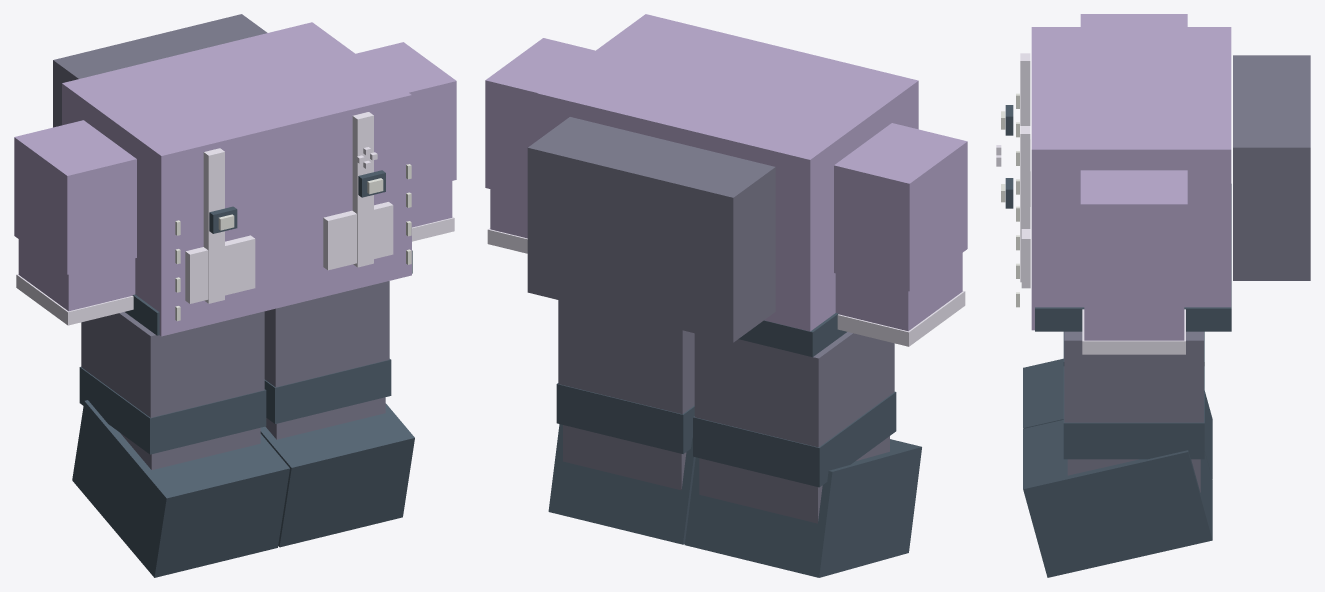
The model's file is explorer-lavender.glb.
The picture shows the model from 3 angles, left to right: view 1: azimuth 30°, elevation 25°; view 2: azimuth 150°, elevation 25°; view 3: azimuth 270°, elevation 25°; orthographic projection. The views are drawn at different scales.
Parts seen in each view (by area): view 1: jacket, shoe-Right, upper-sleeve-Right, trouser-Right, shoe-Left, trouser-Left, upper-sleeve-Left, boot-cuff-Right, backpack, boot-cuff-Left, lower-sleeve-Right, pocket--1 (+9 smaller); view 2: jacket, backpack, upper-sleeve-Right, shoe-Right, trouser-Right, trouser-Left, boot-cuff-Right, upper-sleeve-Left, shoe-Left, boot-cuff-Left, lower-sleeve-Right, lower-trouser-Right (+5 smaller); view 3: jacket, shoe-Left, backpack, upper-sleeve-Left, trouser-Left, boot-cuff-Left, lower-sleeve-Left, shoe-Right, trail-belt, cuff-Left, upper-sleeve-Right, backpack-strap.001 (+3 smaller).
Part boxes in pixels (<box>): jacket: <box>62,22,411,336</box>; shoe-Right: <box>72,400,289,577</box>; upper-sleeve-Right: <box>14,120,136,274</box>; trouser-Right: <box>81,311,264,417</box>; shoe-Left: <box>260,403,414,547</box>; trouser-Left: <box>264,281,389,387</box>; upper-sleeve-Left: <box>356,42,456,190</box>; boot-cuff-Right: <box>79,367,266,454</box>; backpack: <box>53,14,267,127</box>; boot-cuff-Left: <box>264,359,391,423</box>; lower-sleeve-Right: <box>18,239,135,311</box>; pocket--1: <box>185,235,255,303</box>; jacket: <box>537,14,918,331</box>; backpack: <box>527,117,775,342</box>; upper-sleeve-Right: <box>834,123,967,291</box>; shoe-Right: <box>684,439,921,577</box>; trouser-Right: <box>694,332,894,447</box>; trouser-Left: <box>558,300,694,414</box>; boot-cuff-Right: <box>693,391,896,487</box>; upper-sleeve-Left: <box>485,38,594,197</box>; shoe-Left: <box>548,424,695,544</box>; boot-cuff-Left: <box>556,383,694,453</box>; lower-sleeve-Right: <box>835,253,962,331</box>; lower-trouser-Right: <box>699,436,889,523</box>; jacket: <box>1031,27,1231,330</box>; shoe-Left: <box>1023,420,1212,577</box>; backpack: <box>1233,55,1310,280</box>; upper-sleeve-Left: <box>1080,170,1187,303</box>; trouser-Left: <box>1064,331,1203,422</box>; boot-cuff-Left: <box>1063,366,1204,459</box>; lower-sleeve-Left: <box>1084,303,1184,340</box>; shoe-Right: <box>1023,358,1212,478</box>; trail-belt: <box>1035,184,1231,331</box>; cuff-Left: <box>1082,309,1185,354</box>; upper-sleeve-Right: <box>1080,14,1187,26</box>; backpack-strap.001: <box>1020,126,1030,282</box>.
Bounding box in the file's own units: 1.07 × 1.13 × 0.748.
